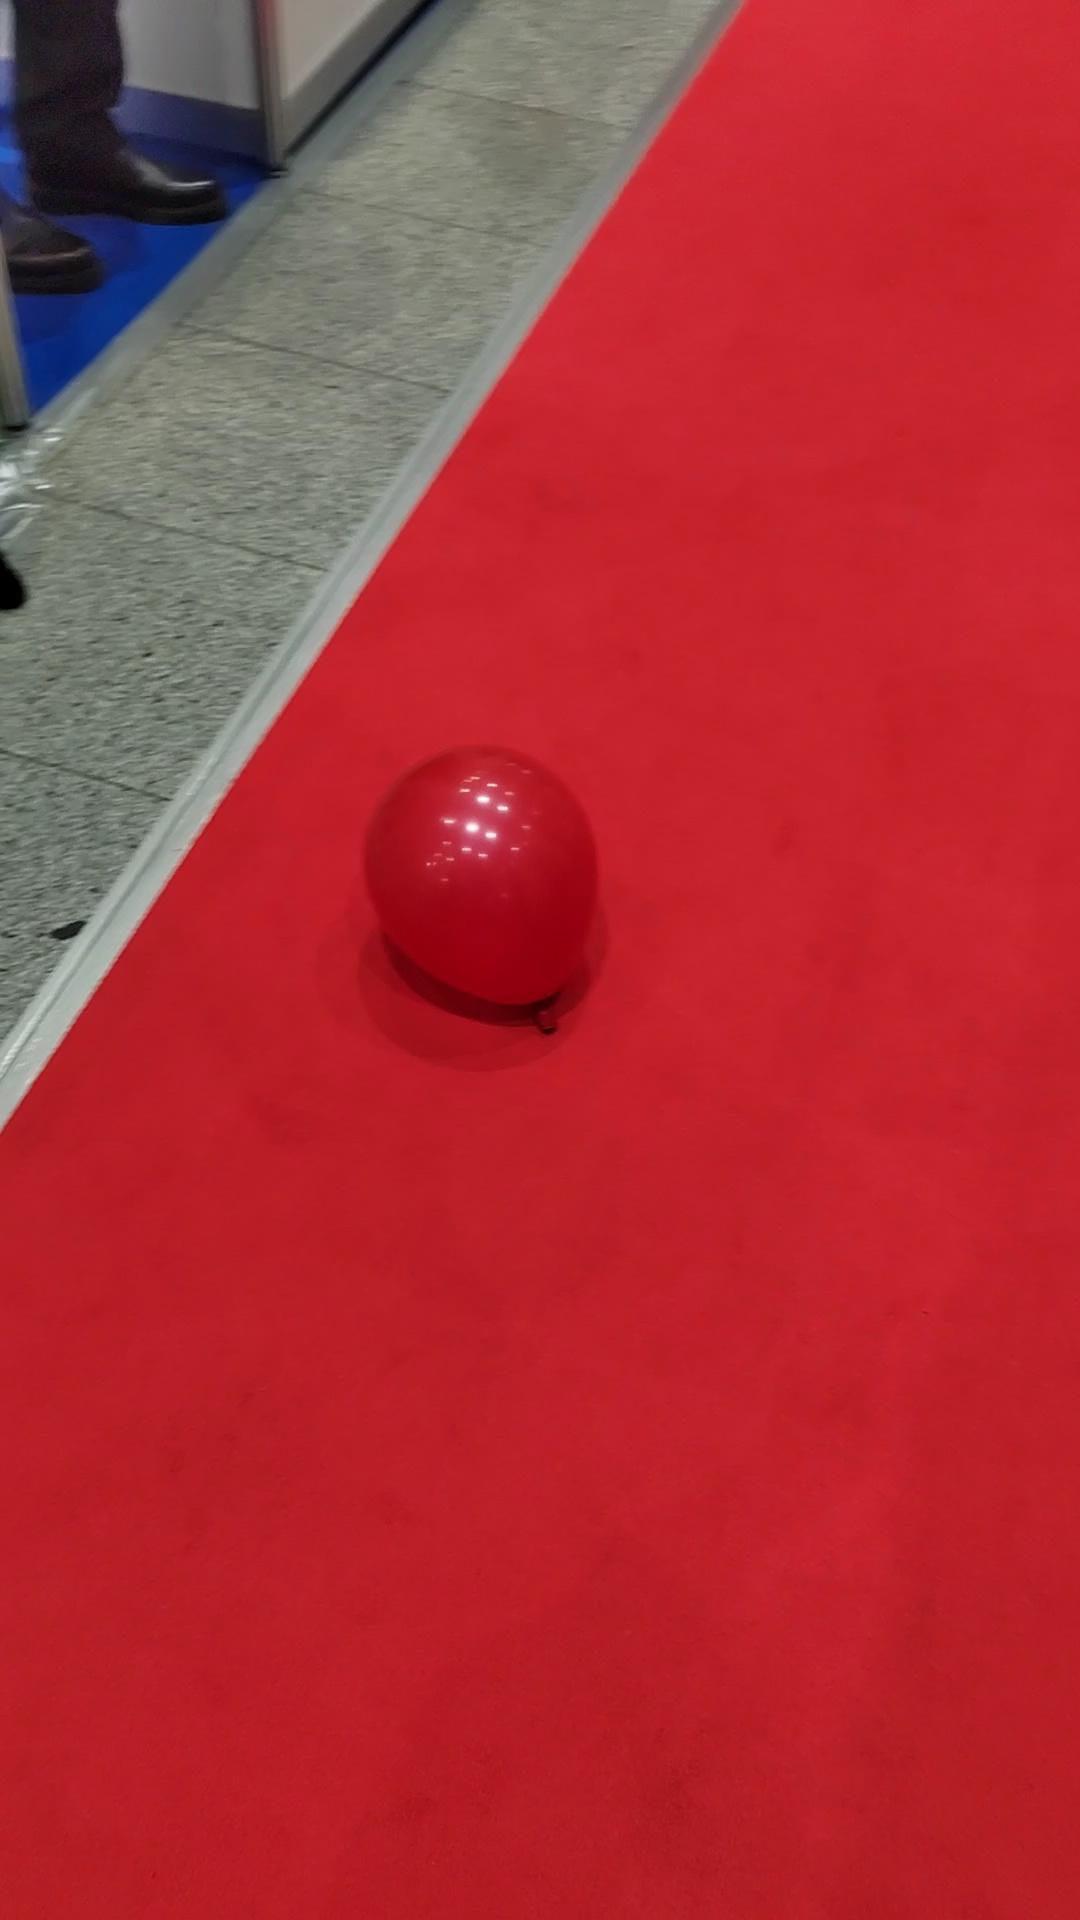red: (364, 745, 599, 1011)
